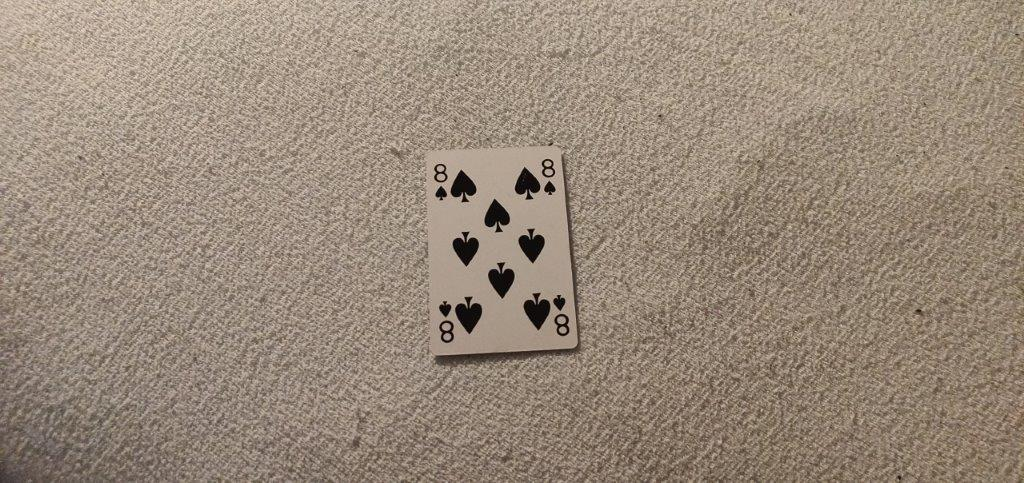8S: (427, 159, 453, 206), (539, 156, 561, 197)
